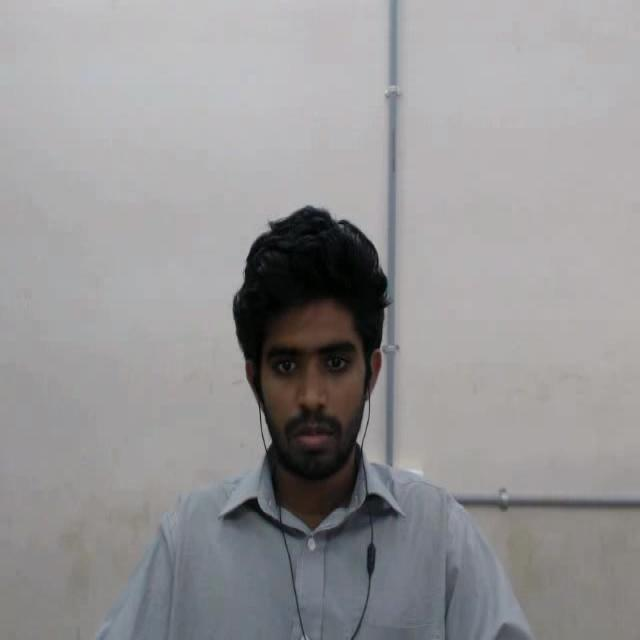Engaged: (217, 191, 410, 523)
